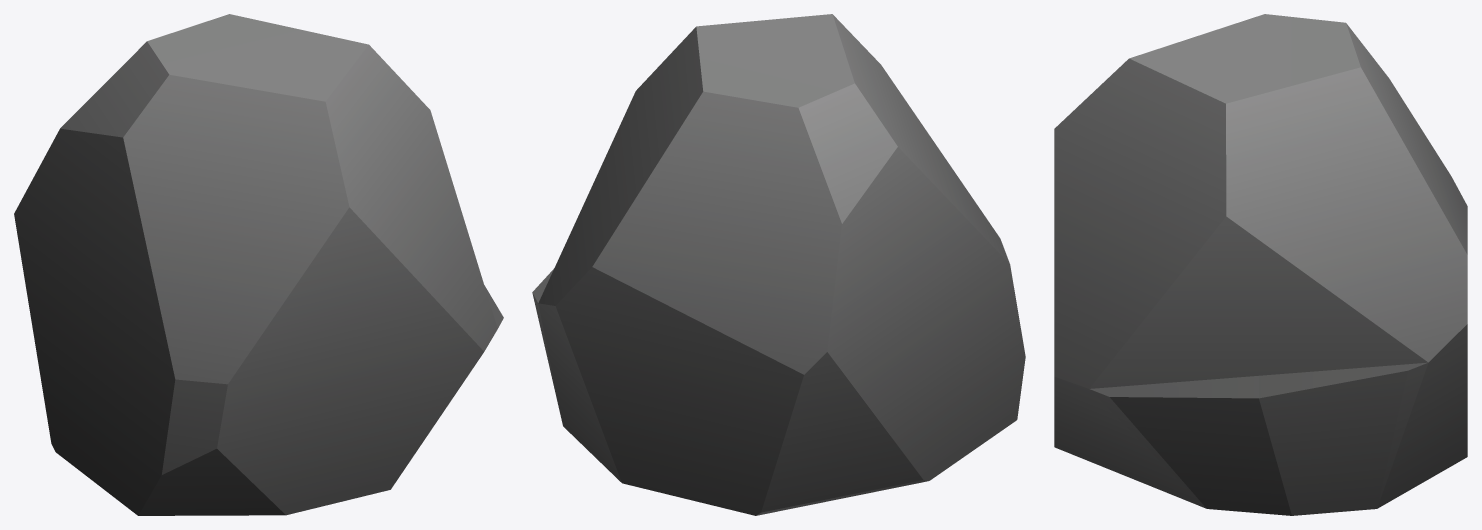
The model's file is SM_Rock_Big_01.fbx.
3 renders of one model, left to right at view 1: azimuth 30°, elevation 25°; view 2: azimuth 150°, elevation 25°; view 3: azimuth 270°, elevation 25°, orthographic. The views are drawn at different scales.
Visible parts, largest first — view 1: SM_Rock_Big_01; view 2: SM_Rock_Big_01; view 3: SM_Rock_Big_01.
Part boxes in pixels (x1,y1,x2,y2): SM_Rock_Big_01: (14, 14, 503, 515); SM_Rock_Big_01: (532, 14, 1025, 515); SM_Rock_Big_01: (1054, 14, 1467, 515).
Size of the model in its own units: 663 by 604 by 604.
